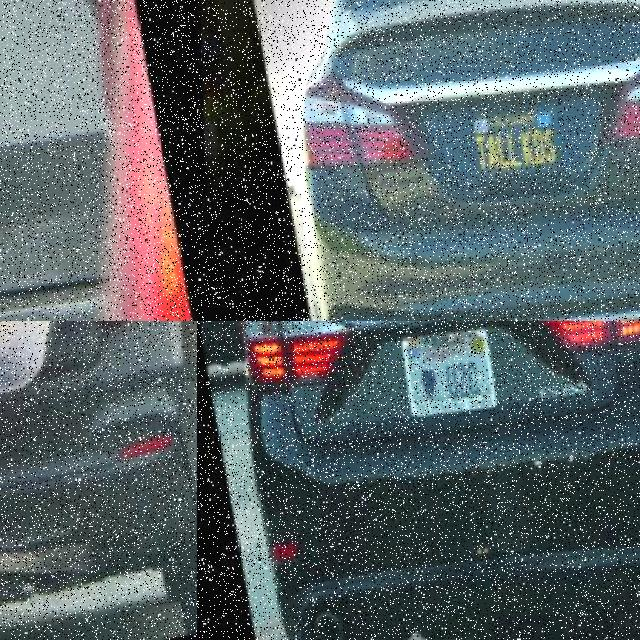licenseplate: (0, 0, 91, 146), (398, 324, 496, 430), (464, 102, 556, 185), (0, 320, 66, 395)
